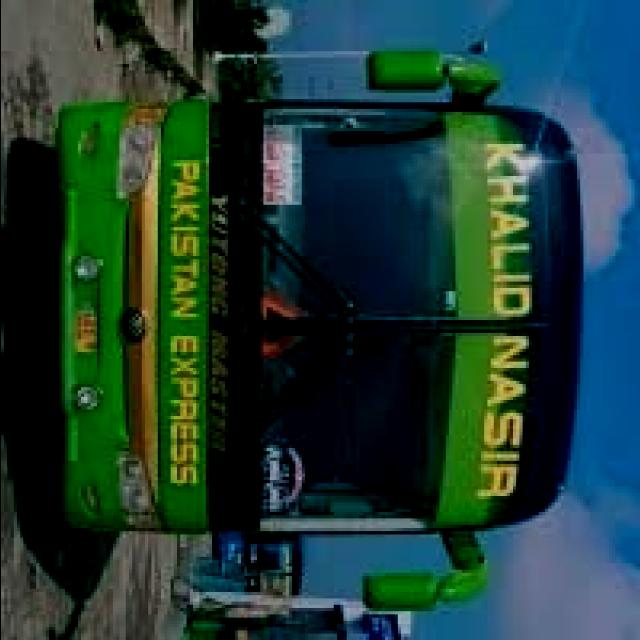bus: (11, 20, 592, 636)
